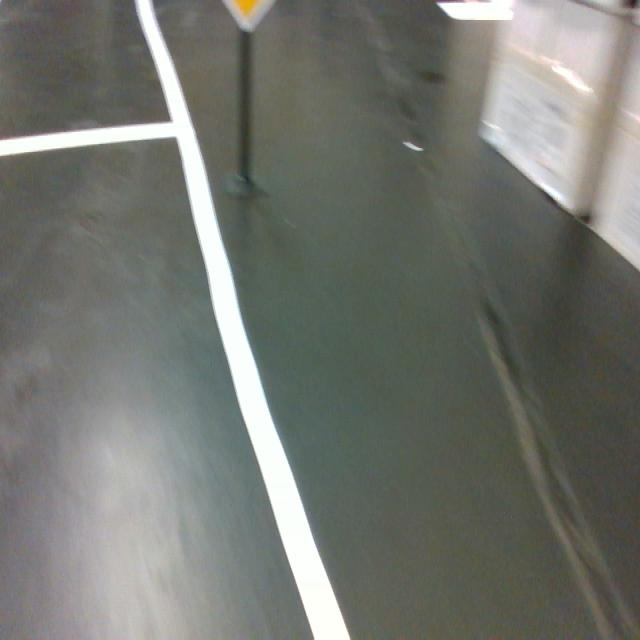priority-sign: (220, 0, 279, 35)
